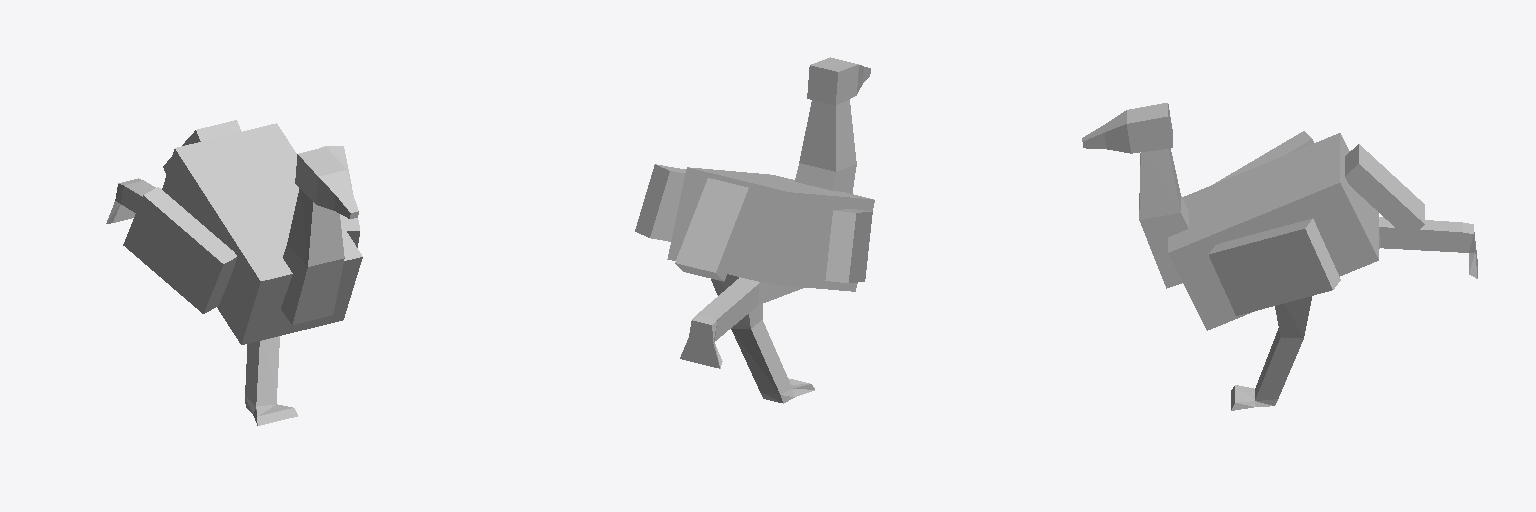
Rendered from Ostrich_000079.obj.
3 views of the same model, side by side, from view 1: azimuth 30°, elevation 25°; view 2: azimuth 150°, elevation 25°; view 3: azimuth 270°, elevation 25° (orthographic).
Parts seen in each view (by area): view 1: Cube_Cube.001; view 2: Cube_Cube.001; view 3: Cube_Cube.001.
Part boxes in pixels (left/top/right/bottom): Cube_Cube.001: left=106, top=120, right=362, bottom=425; Cube_Cube.001: left=635, top=57, right=874, bottom=403; Cube_Cube.001: left=1082, top=103, right=1477, bottom=410.
Size of the model in its own units: 1.04 by 1.37 by 1.67.